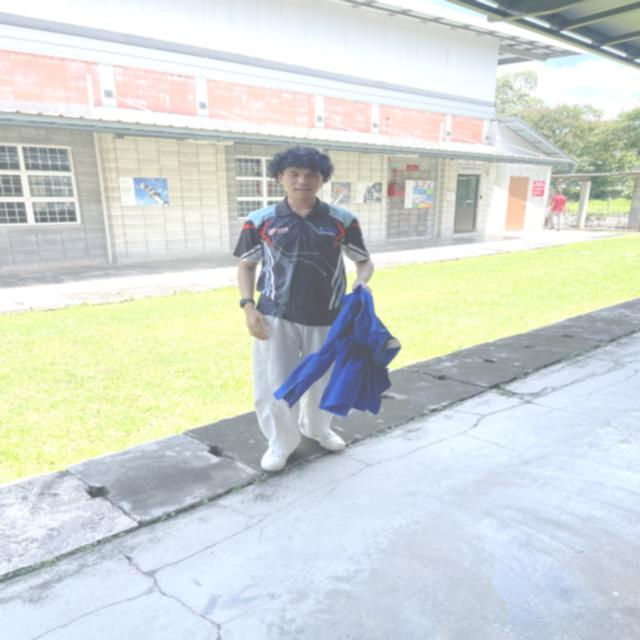person_without_labcoat: (235, 147, 400, 470)
